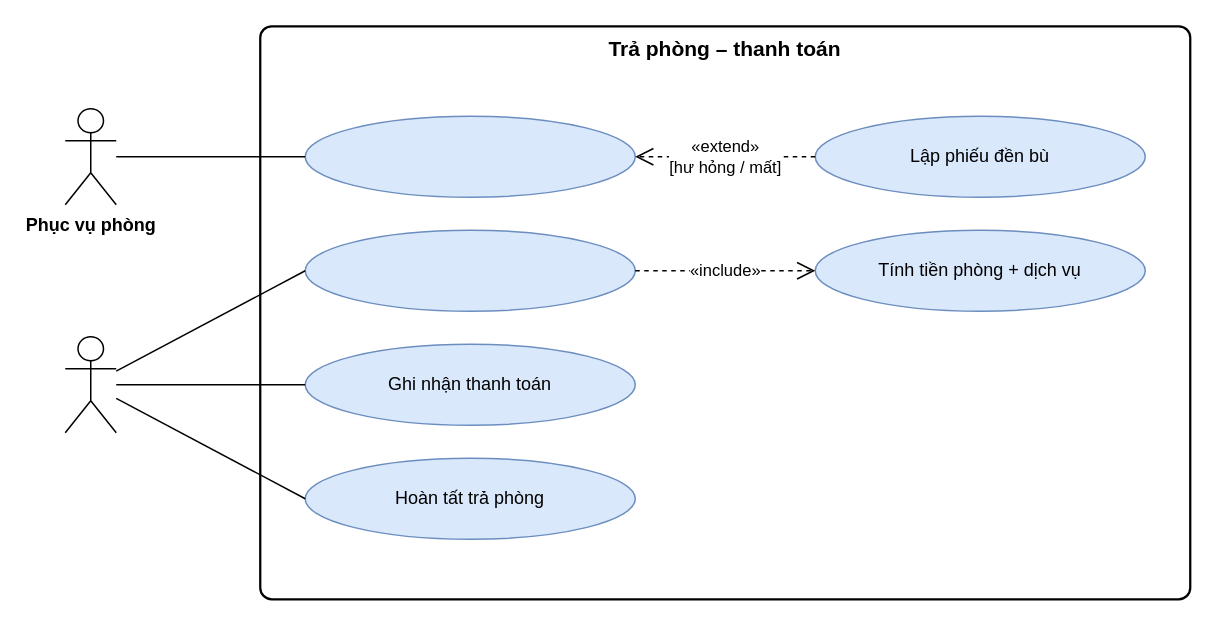
The diagram is 1218 pixels wide and 627 high, and some of its shapes have lost their labels. Each missing label, with the centre of its shape:
Kiểm tra tiện nghi: (x=469, y=156)
Lập hóa đơn: (x=469, y=270)
NV thanh toán: (x=90, y=384)
